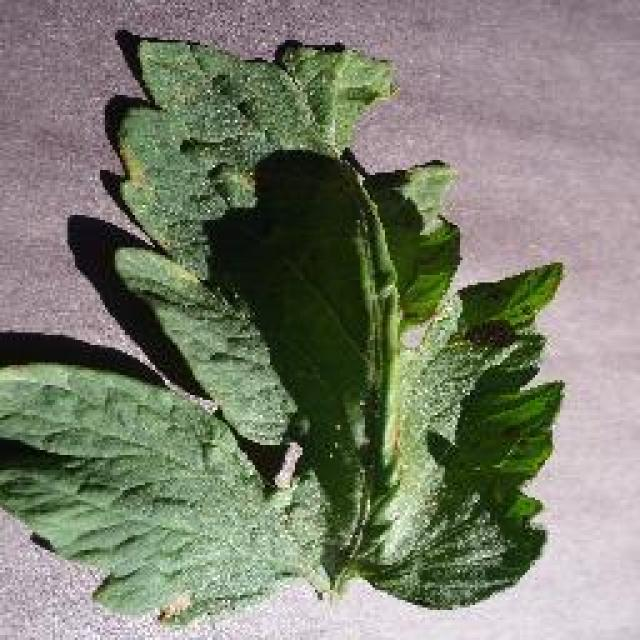Tomato Early blight leaf: (2, 31, 568, 616)
